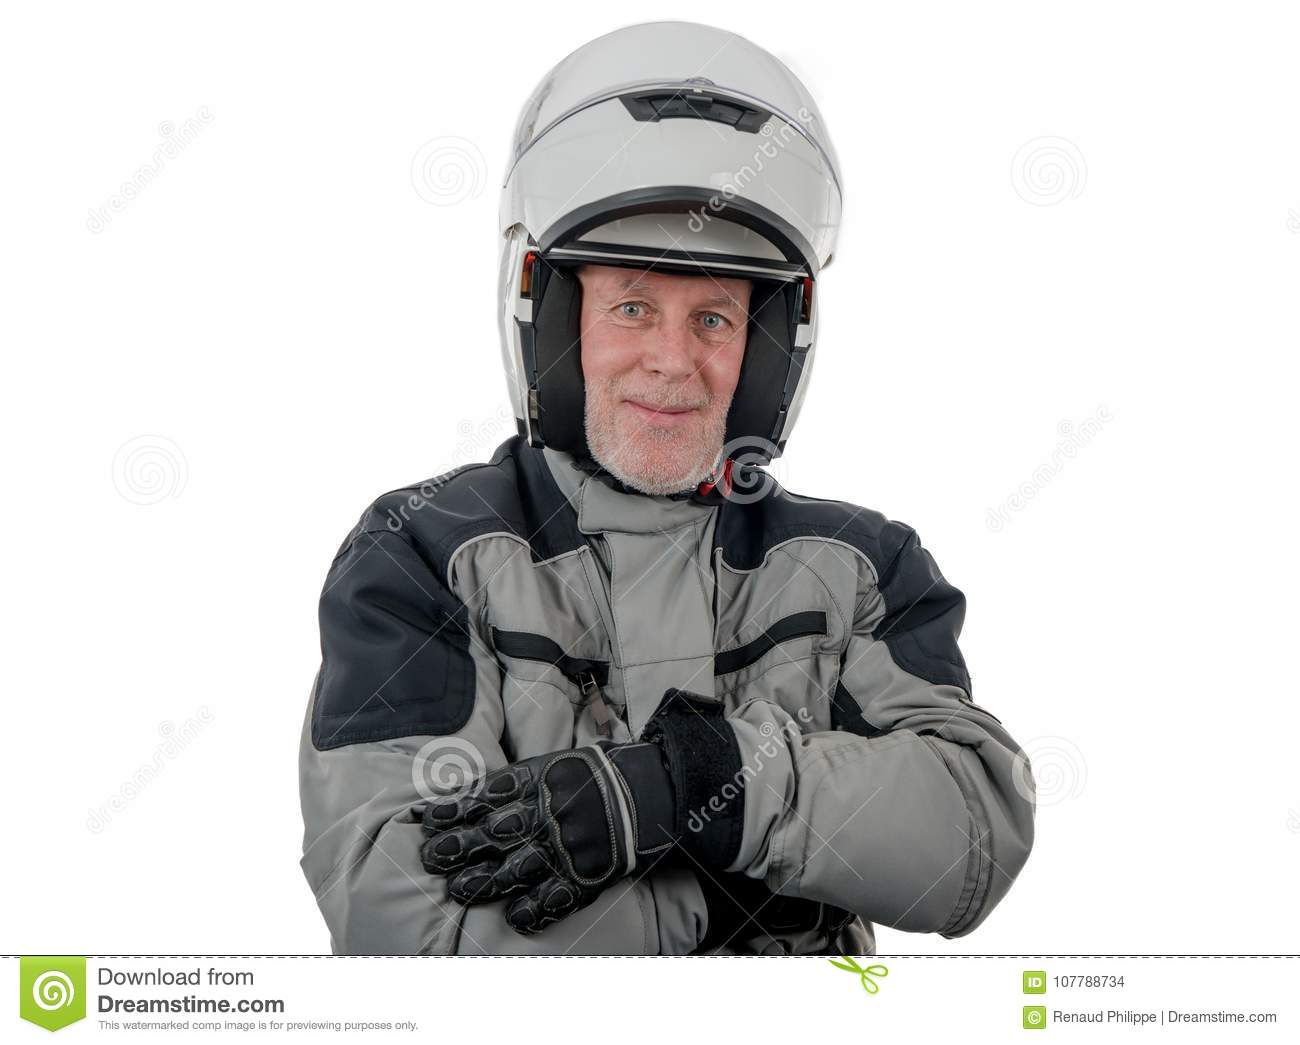helmet: (480, 76, 834, 477)
